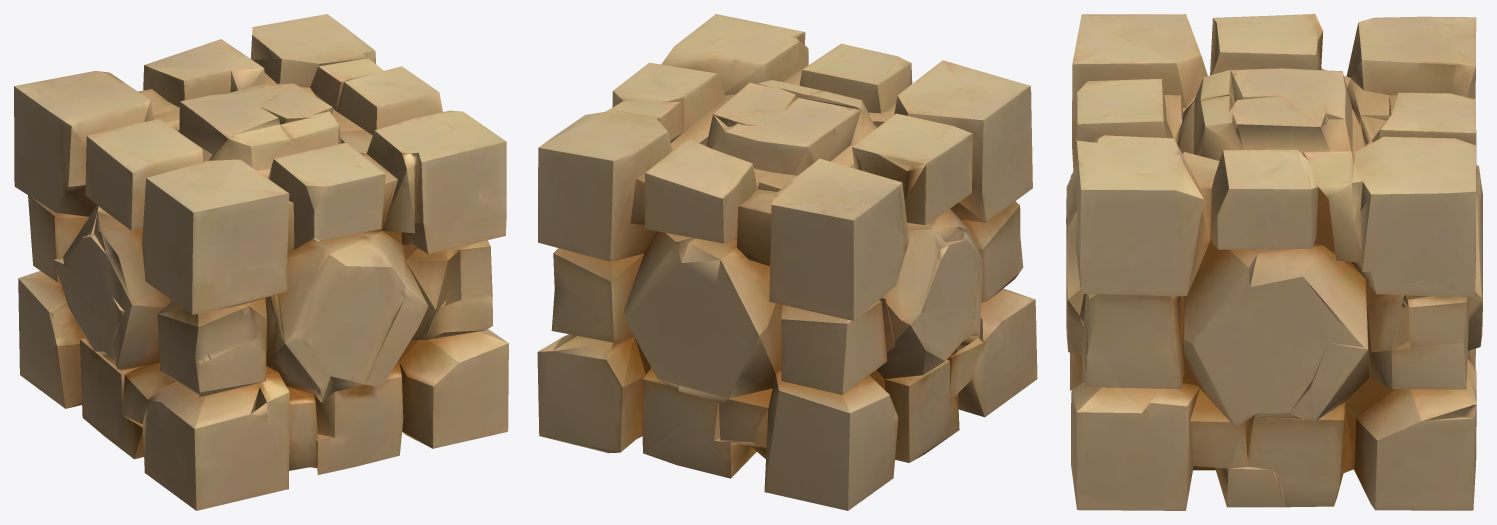
Rendered from m2ArenaBlock.glb.
3 renders of one model, left to right at view 1: azimuth 30°, elevation 25°; view 2: azimuth 150°, elevation 25°; view 3: azimuth 270°, elevation 25°, orthographic. The views are drawn at different scales.
Visible parts, largest first — view 1: model; view 2: model; view 3: model.
Part boxes in pixels (x1,y1,x2,y2): model: [14, 14, 508, 510]; model: [537, 14, 1037, 510]; model: [1066, 14, 1482, 510].
Size of the model in its own units: 1.9 by 1.64 by 1.87.
Materials: 1 (1 with a texture image).
